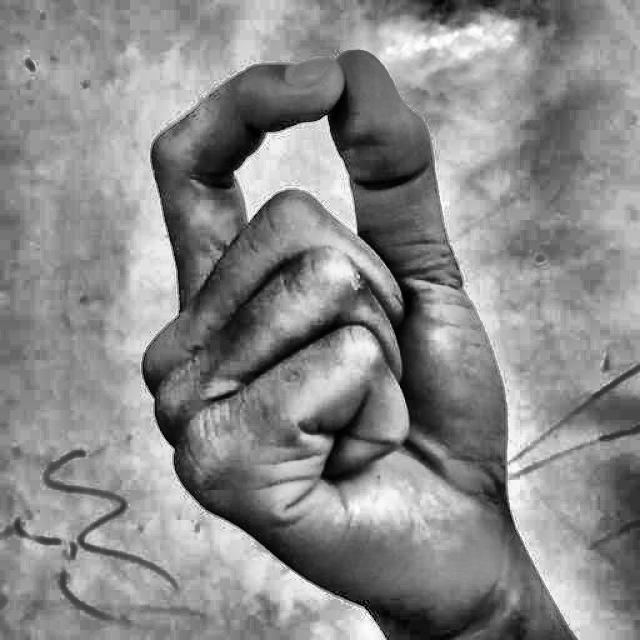Gha: (96, 34, 574, 629)
